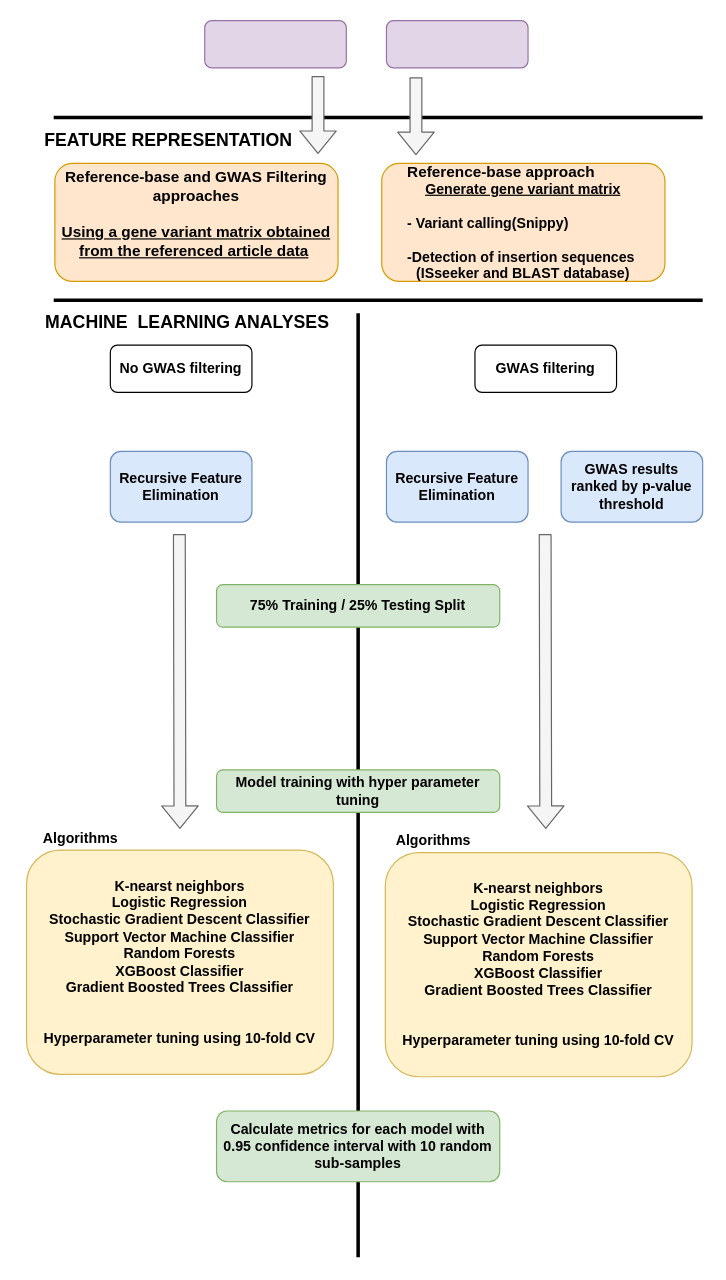
This 726x1280 diagram has some shape labels left out. Here are the shapes that lost their labels. From the top down, the centre of each, then its label:
At point (275, 43): "Input Genomes Dataset".
At point (456, 43): "Input Genomes".
